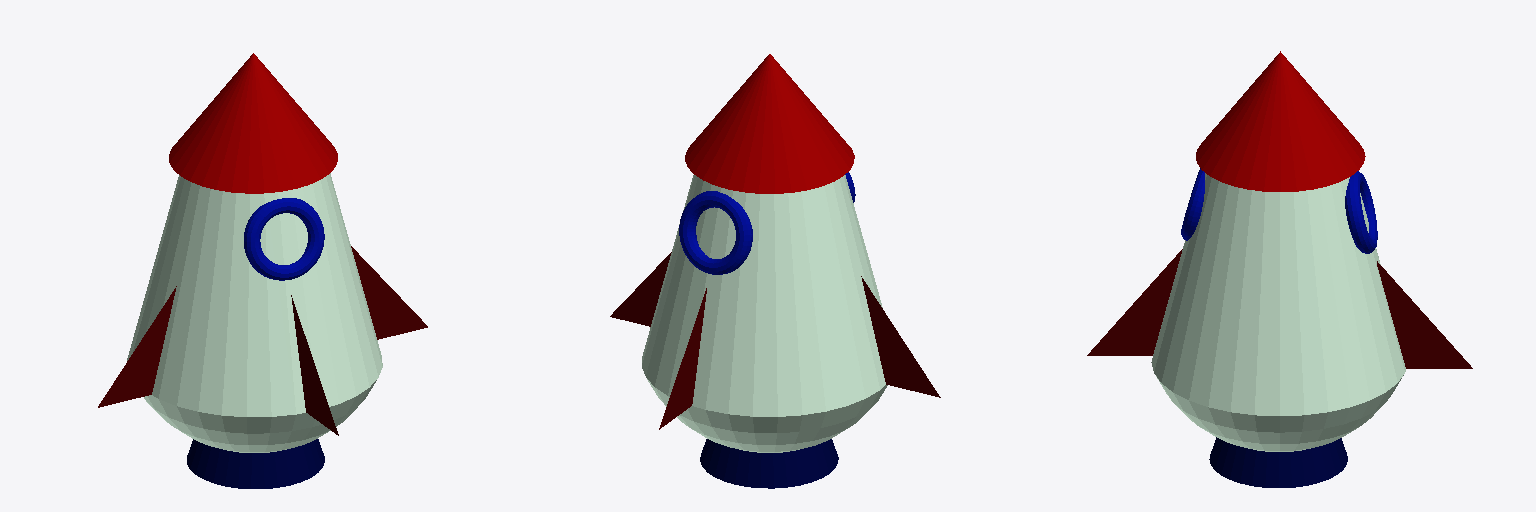
Rendered from rocket.obj.
3 views of the same model, side by side, from view 1: azimuth 30°, elevation 25°; view 2: azimuth 150°, elevation 25°; view 3: azimuth 270°, elevation 25° (orthographic).
Parts seen in each view (by area): view 1: Sphere, Plane.003_Plane.004, Cylinder_Cylinder.001; view 2: Sphere, Plane.003_Plane.004, Cylinder_Cylinder.001; view 3: Sphere, Plane.003_Plane.004, Cylinder_Cylinder.001.
Part boxes in pixels (left/top/right/bottom): Sphere: left=127, top=173, right=382, bottom=452; Plane.003_Plane.004: left=98, top=53, right=427, bottom=435; Cylinder_Cylinder.001: left=187, top=198, right=324, bottom=488; Sphere: left=642, top=175, right=887, bottom=452; Plane.003_Plane.004: left=610, top=54, right=940, bottom=429; Cylinder_Cylinder.001: left=679, top=172, right=855, bottom=488; Sphere: left=1151, top=173, right=1405, bottom=451; Plane.003_Plane.004: left=1087, top=51, right=1472, bottom=368; Cylinder_Cylinder.001: left=1181, top=168, right=1377, bottom=487.
Bounding box in the file's own units: 2.87 × 3.37 × 2.9.